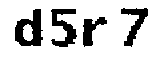5: (47, 4, 78, 51)
7: (115, 3, 151, 53)
d: (13, 4, 42, 53)
r: (83, 17, 111, 53)
